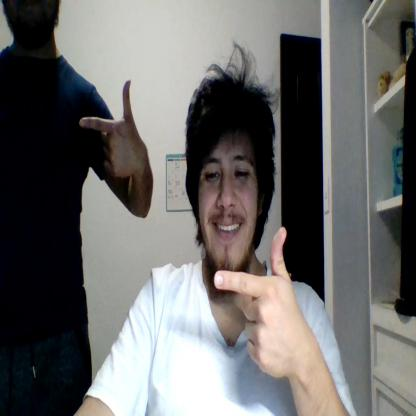G: (214, 226, 298, 378), (79, 80, 138, 179)
